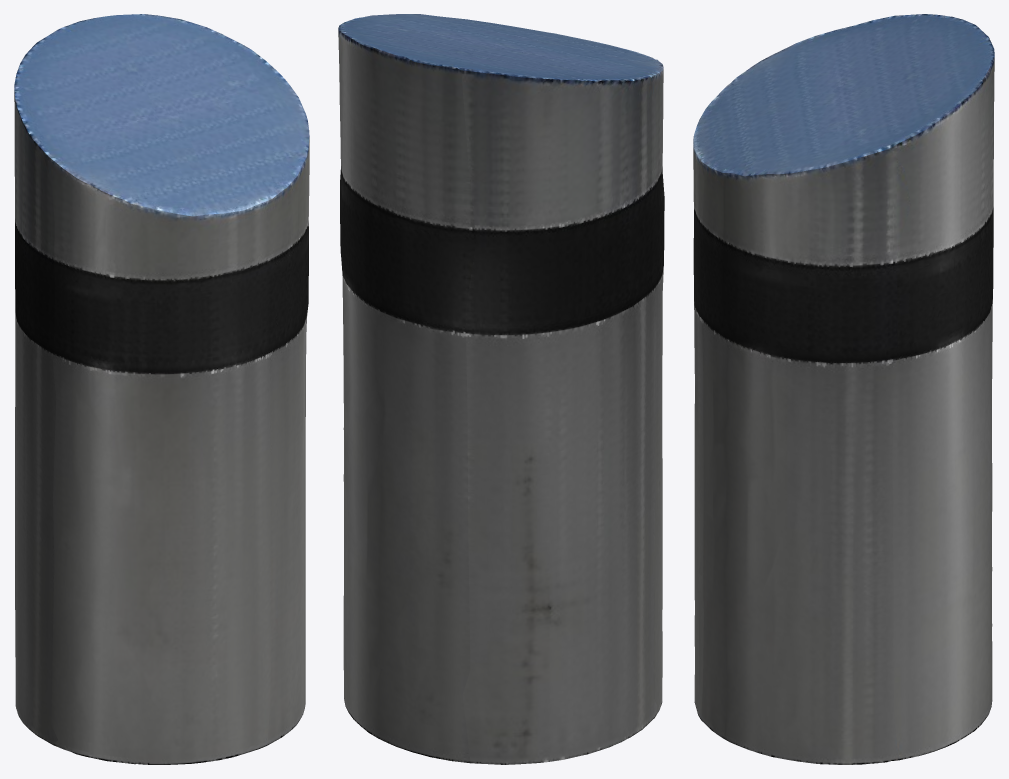
3 renders of one model, left to right at view 1: azimuth 30°, elevation 25°; view 2: azimuth 150°, elevation 25°; view 3: azimuth 270°, elevation 25°, orthographic. The views are drawn at different scales.
Parts seen in each view (by area): view 1: bollard-row-edge; view 2: bollard-row-edge; view 3: bollard-row-edge.
Boxes of the visible parts, x1,y1,x2,y2 form: bollard-row-edge: (14,14,309,764); bollard-row-edge: (338,14,664,764); bollard-row-edge: (693,14,994,764).
Bounding box in the file's own units: 0.3807 × 0.9001 × 0.3785.
1 material, 1 textured.
